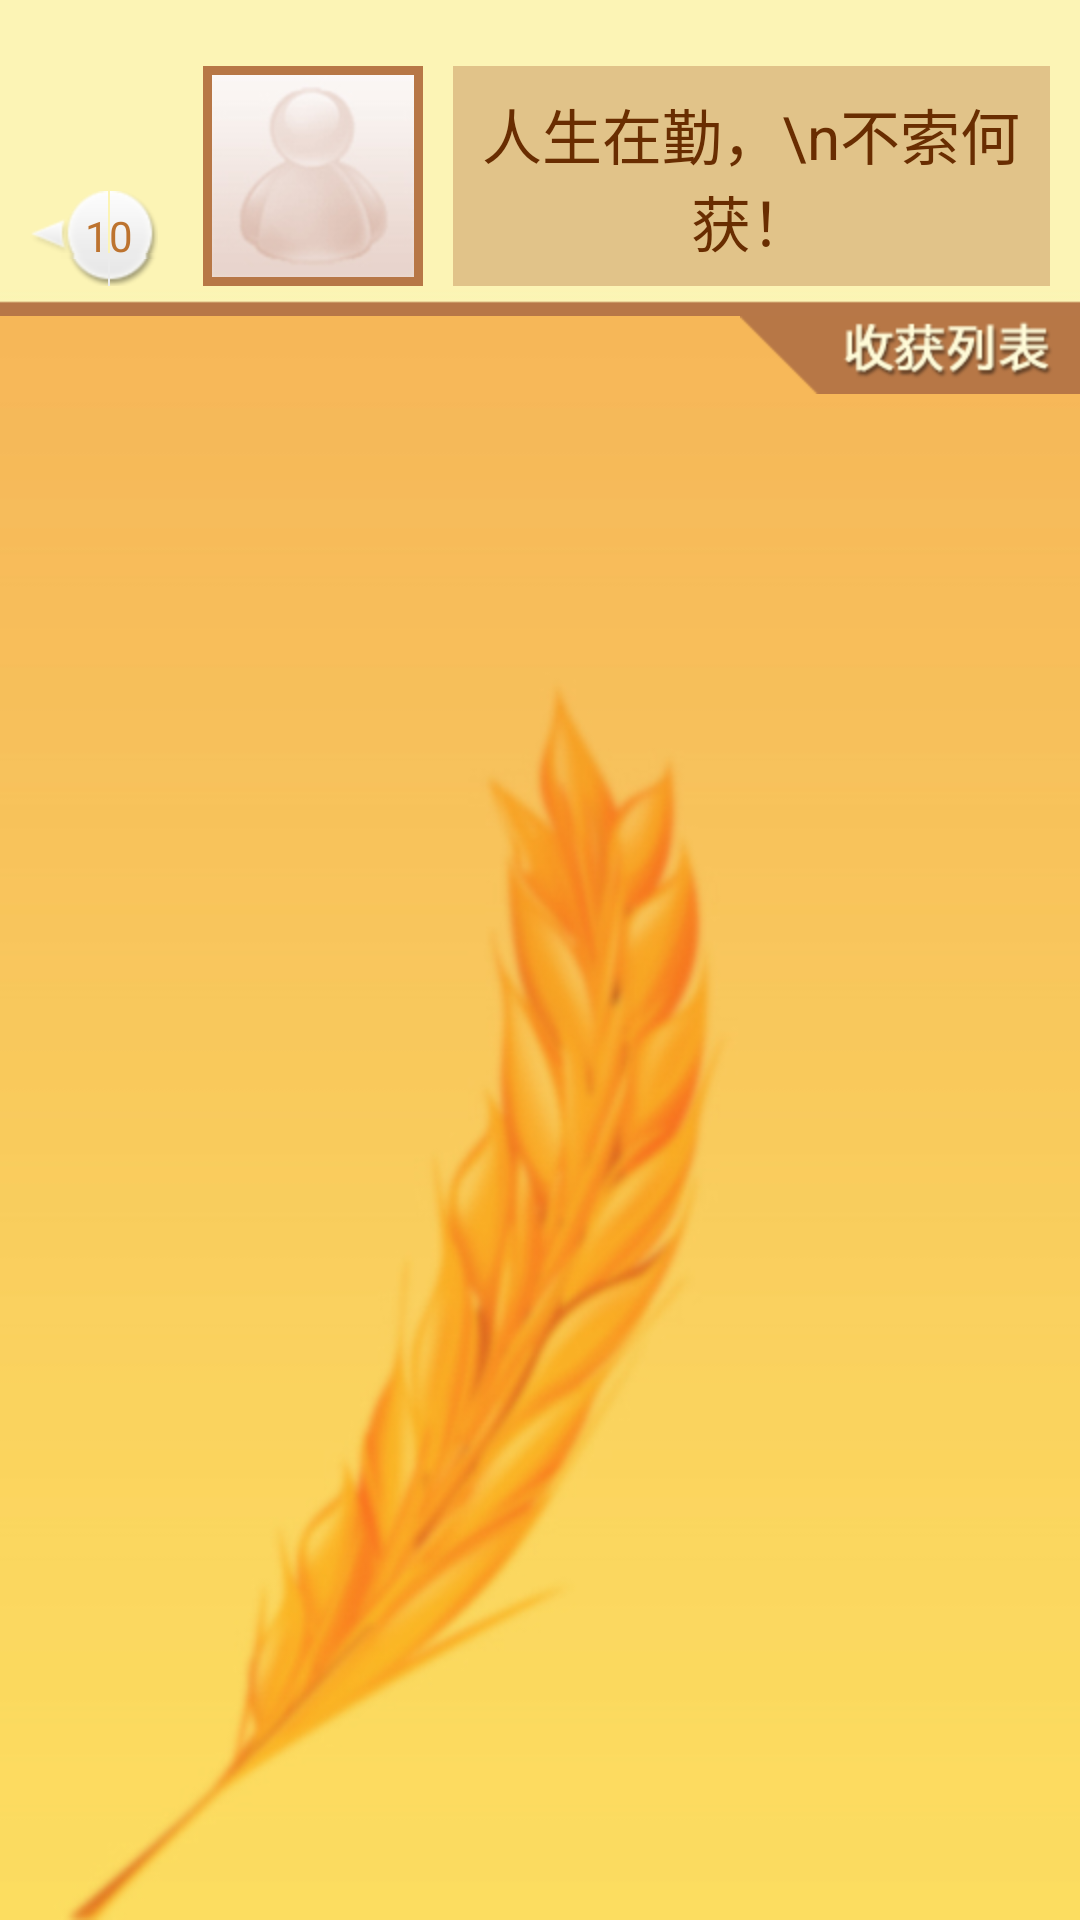

Screen size 1080px×1920px. Icon name, then its box in pixels as (x1, y1, x2, y2):
portrait hold: (203, 66, 423, 286)
